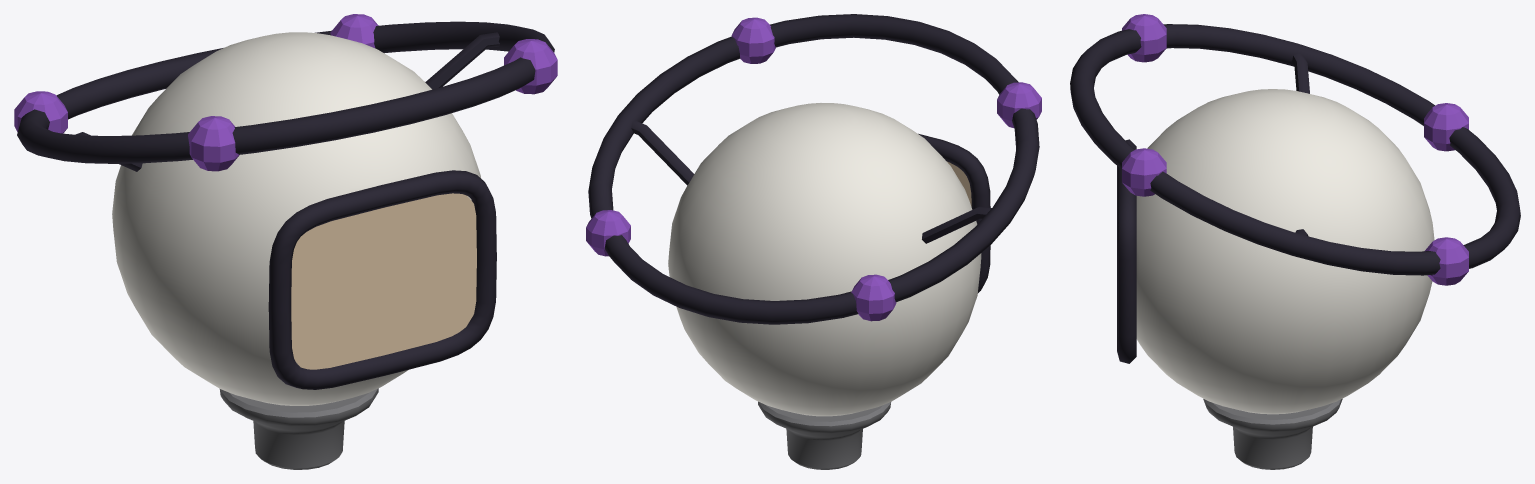
Rendered from Kit_Head_LeagueRing.glb.
The picture shows the model from 3 angles, left to right: view 1: azimuth 30°, elevation 25°; view 2: azimuth 150°, elevation 25°; view 3: azimuth 270°, elevation 25°; orthographic projection. The views are drawn at different scales.
Parts seen in each view (by area): view 1: Kit_Head_LeagueRing, FacePlate; view 2: Kit_Head_LeagueRing; view 3: Kit_Head_LeagueRing.
Boxes of the visible parts, x1,y1,x2,y2 form: Kit_Head_LeagueRing: (14,14,557,469); FacePlate: (291,193,476,369); Kit_Head_LeagueRing: (586,14,1041,469); Kit_Head_LeagueRing: (1070,14,1520,469).
Bounding box in the file's own units: 0.422 × 0.3722 × 0.4013.
